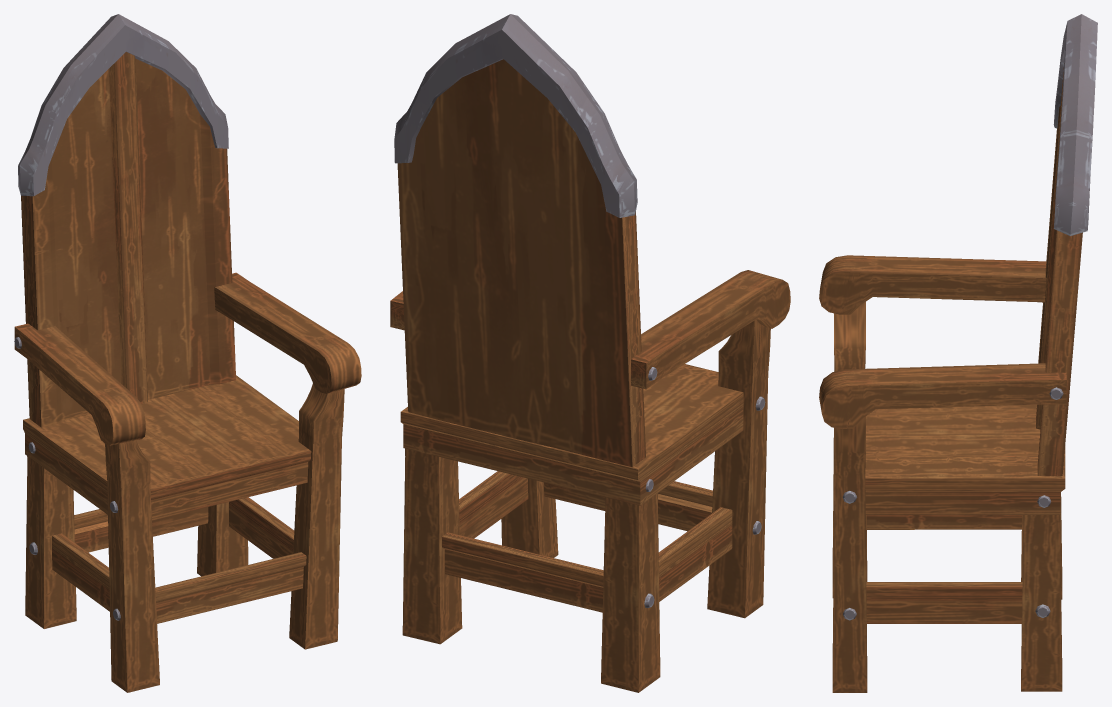
The model's file is Chair_3.fbx.
3 views of the same model, side by side, from view 1: azimuth 30°, elevation 25°; view 2: azimuth 150°, elevation 25°; view 3: azimuth 270°, elevation 25° (orthographic). The views are drawn at different scales.
Parts seen in each view (by area): view 1: Chair_3; view 2: Chair_3; view 3: Chair_3.
Part boxes in pixels (left/top/right/bottom): Chair_3: left=14, top=14, right=361, bottom=692; Chair_3: left=390, top=14, right=790, bottom=692; Chair_3: left=819, top=14, right=1097, bottom=692.
Bounding box in the file's own units: 67.63 × 148 × 60.19.
